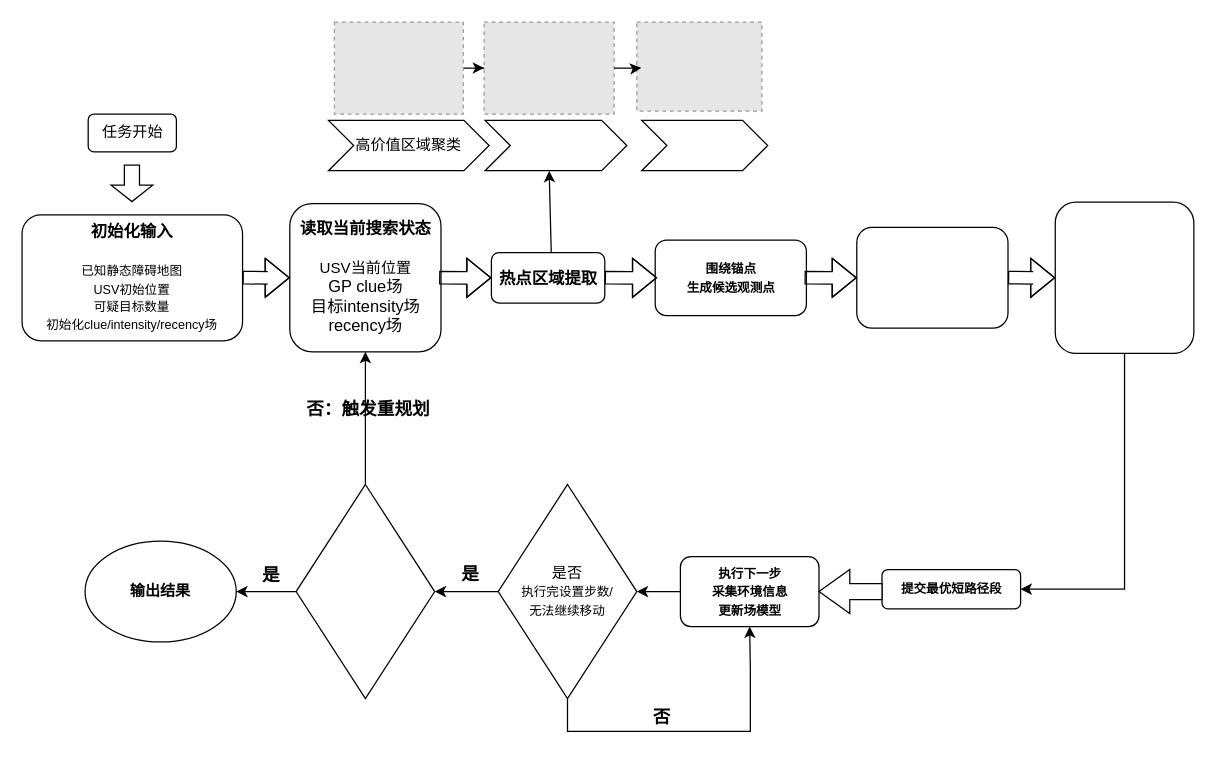
Some shapes in this 1216 by 764 pixel diagram are drawn without their labels. Grey dashed boxes stand in for pictures. The shapes that lost their labels are listed below. From the top down, each one's centre as x and y in pixels, then its label:
the point at 555,145: 热点簇选取
the point at 704,145: 选定锚点
the point at 932,277: 生成短路径段 对每个候选视点生成完整路径，再截断为短路径段
the point at 1124,277: 短路径段评分 搜索信息增益 观测刷新增益 执行代价 转向惩罚
the point at 365,591: 是否 找到 所有目标/ 达到最大仿真 步数
